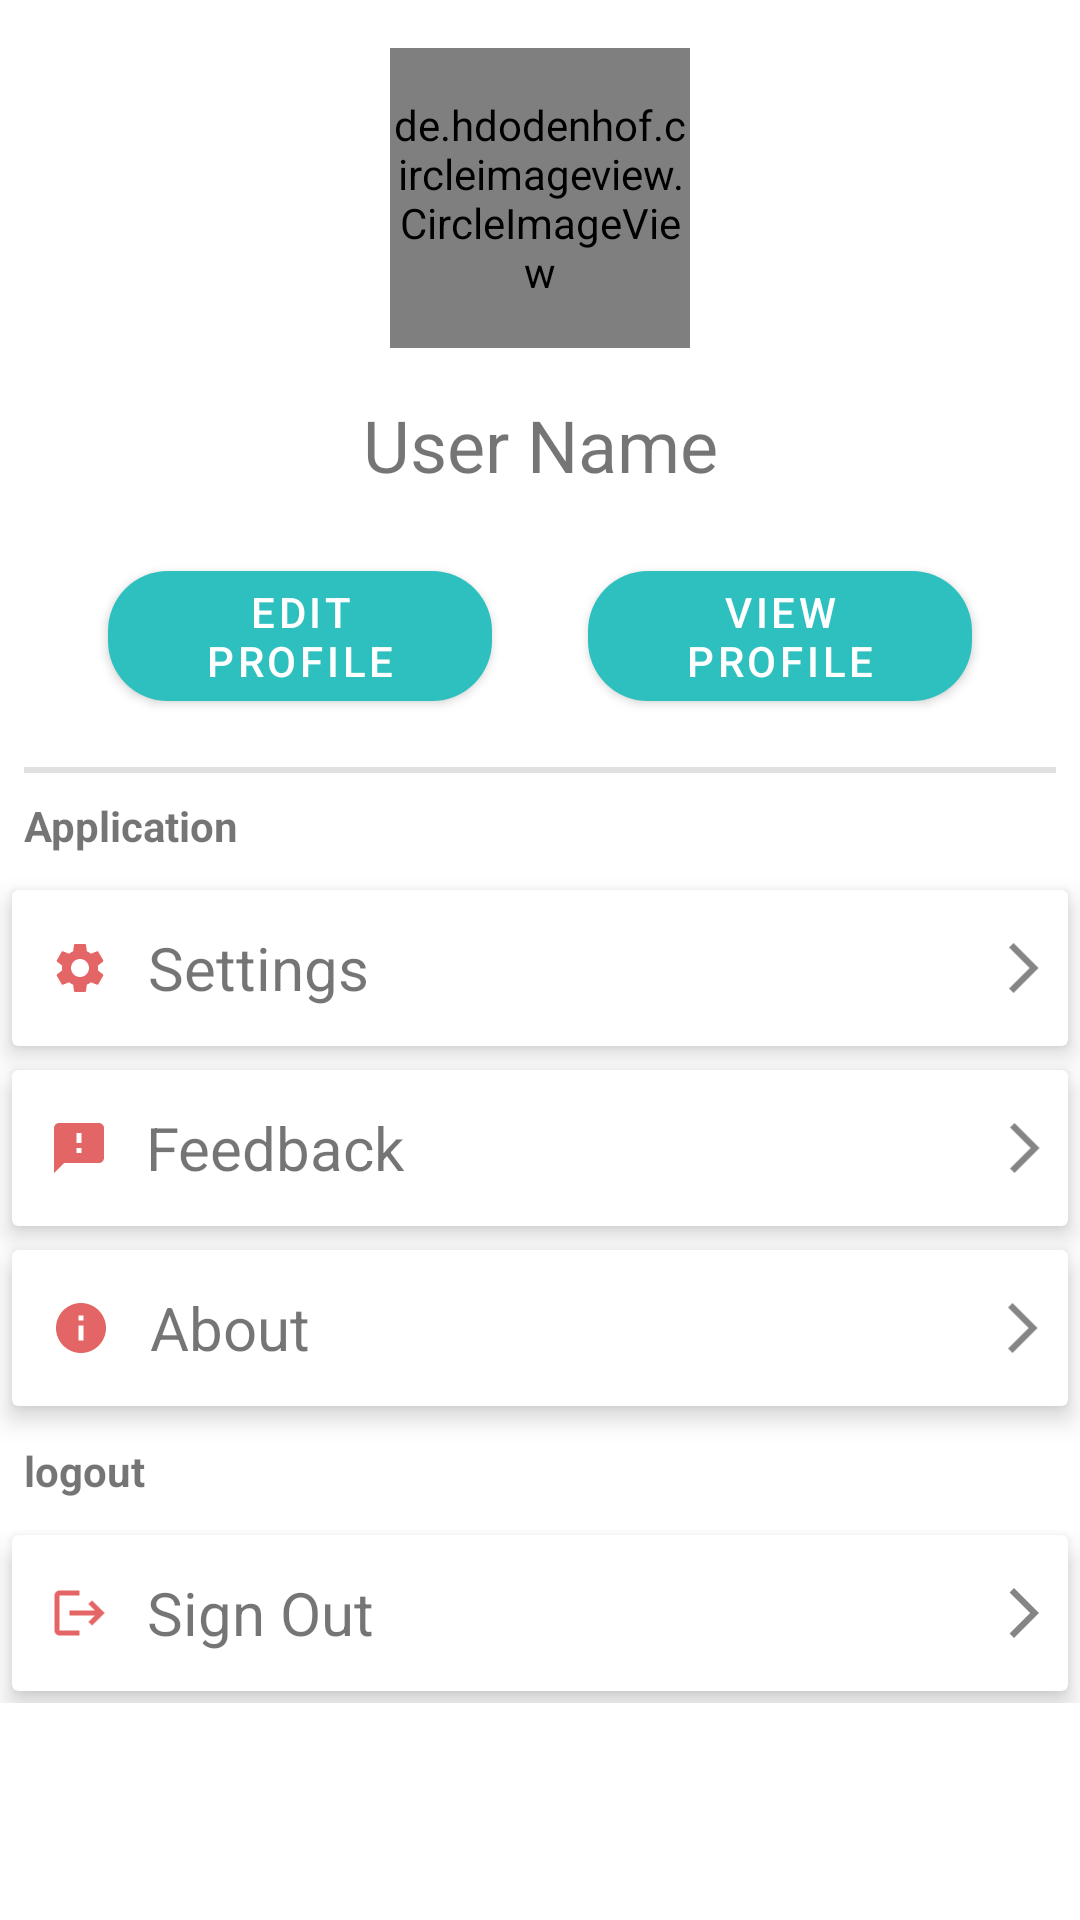

Icons on this 1080×1920 Android screen, each with its box as (x1, y1, x2, y2):
right arrow: (1009, 943, 1039, 993), (1010, 1123, 1040, 1173), (1008, 1303, 1038, 1353), (1010, 1588, 1039, 1638)
